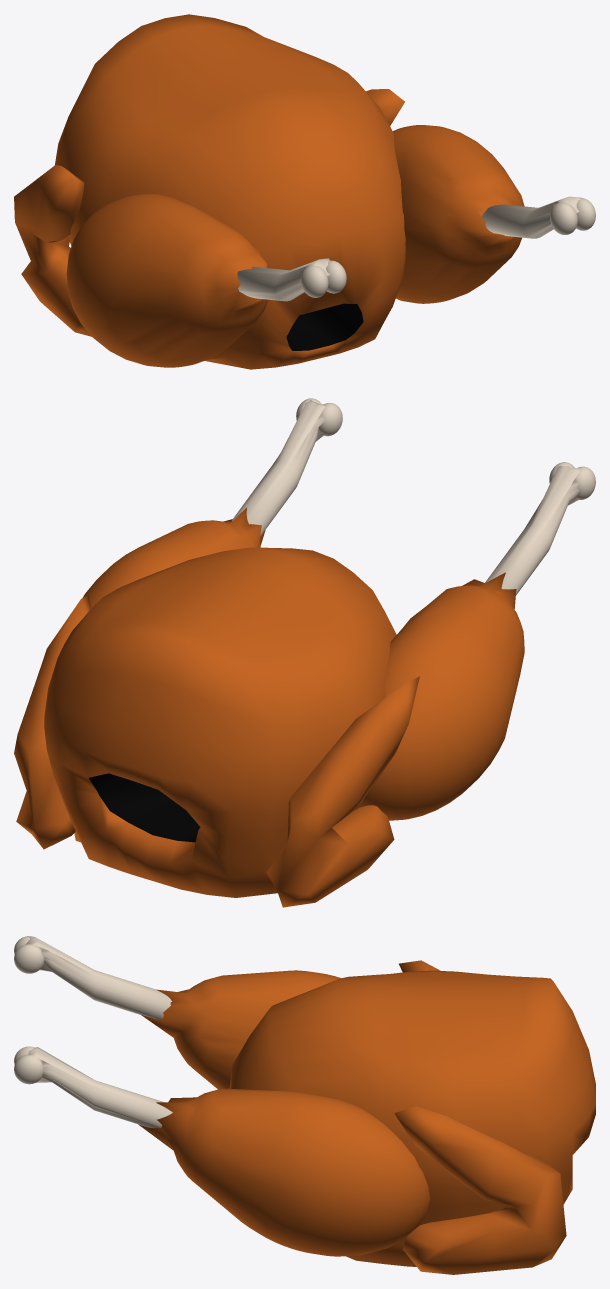
File: turkey.fbx
The picture shows the model from 3 angles, top to bottom: view 1: azimuth 30°, elevation 25°; view 2: azimuth 150°, elevation 25°; view 3: azimuth 270°, elevation 25°; orthographic projection. The views are drawn at different scales.
Visible parts, largest first — view 1: Cube, Sphere.000, Sphere.001, Cube.002, Cube.001; view 2: Cube, Sphere.000, Cube.002, Sphere.001, Cube.001; view 3: Cube, Sphere.001, Cube.001, Sphere.000.
Part boxes in pixels (x1=…): Cube: x1=55, y1=14, x2=405, y2=369; Sphere.000: x1=66, y1=194, x2=346, y2=367; Sphere.001: x1=393, y1=125, x2=595, y2=303; Cube.002: x1=14, y1=165, x2=91, y2=336; Cube.001: x1=366, y1=89, x2=404, y2=125; Cube: x1=44, y1=547, x2=396, y2=897; Sphere.000: x1=361, y1=462, x2=595, y2=820; Cube.002: x1=266, y1=676, x2=419, y2=907; Sphere.001: x1=82, y1=398, x2=342, y2=608; Cube.001: x1=14, y1=595, x2=91, y2=849; Cube: x1=229, y1=970, x2=595, y2=1266; Sphere.001: x1=14, y1=1046, x2=429, y2=1256; Cube.001: x1=394, y1=1106, x2=566, y2=1274; Sphere.000: x1=14, y1=936, x2=340, y2=1089.
Bounding box in the file's own units: 1.35 × 0.7674 × 1.81.
